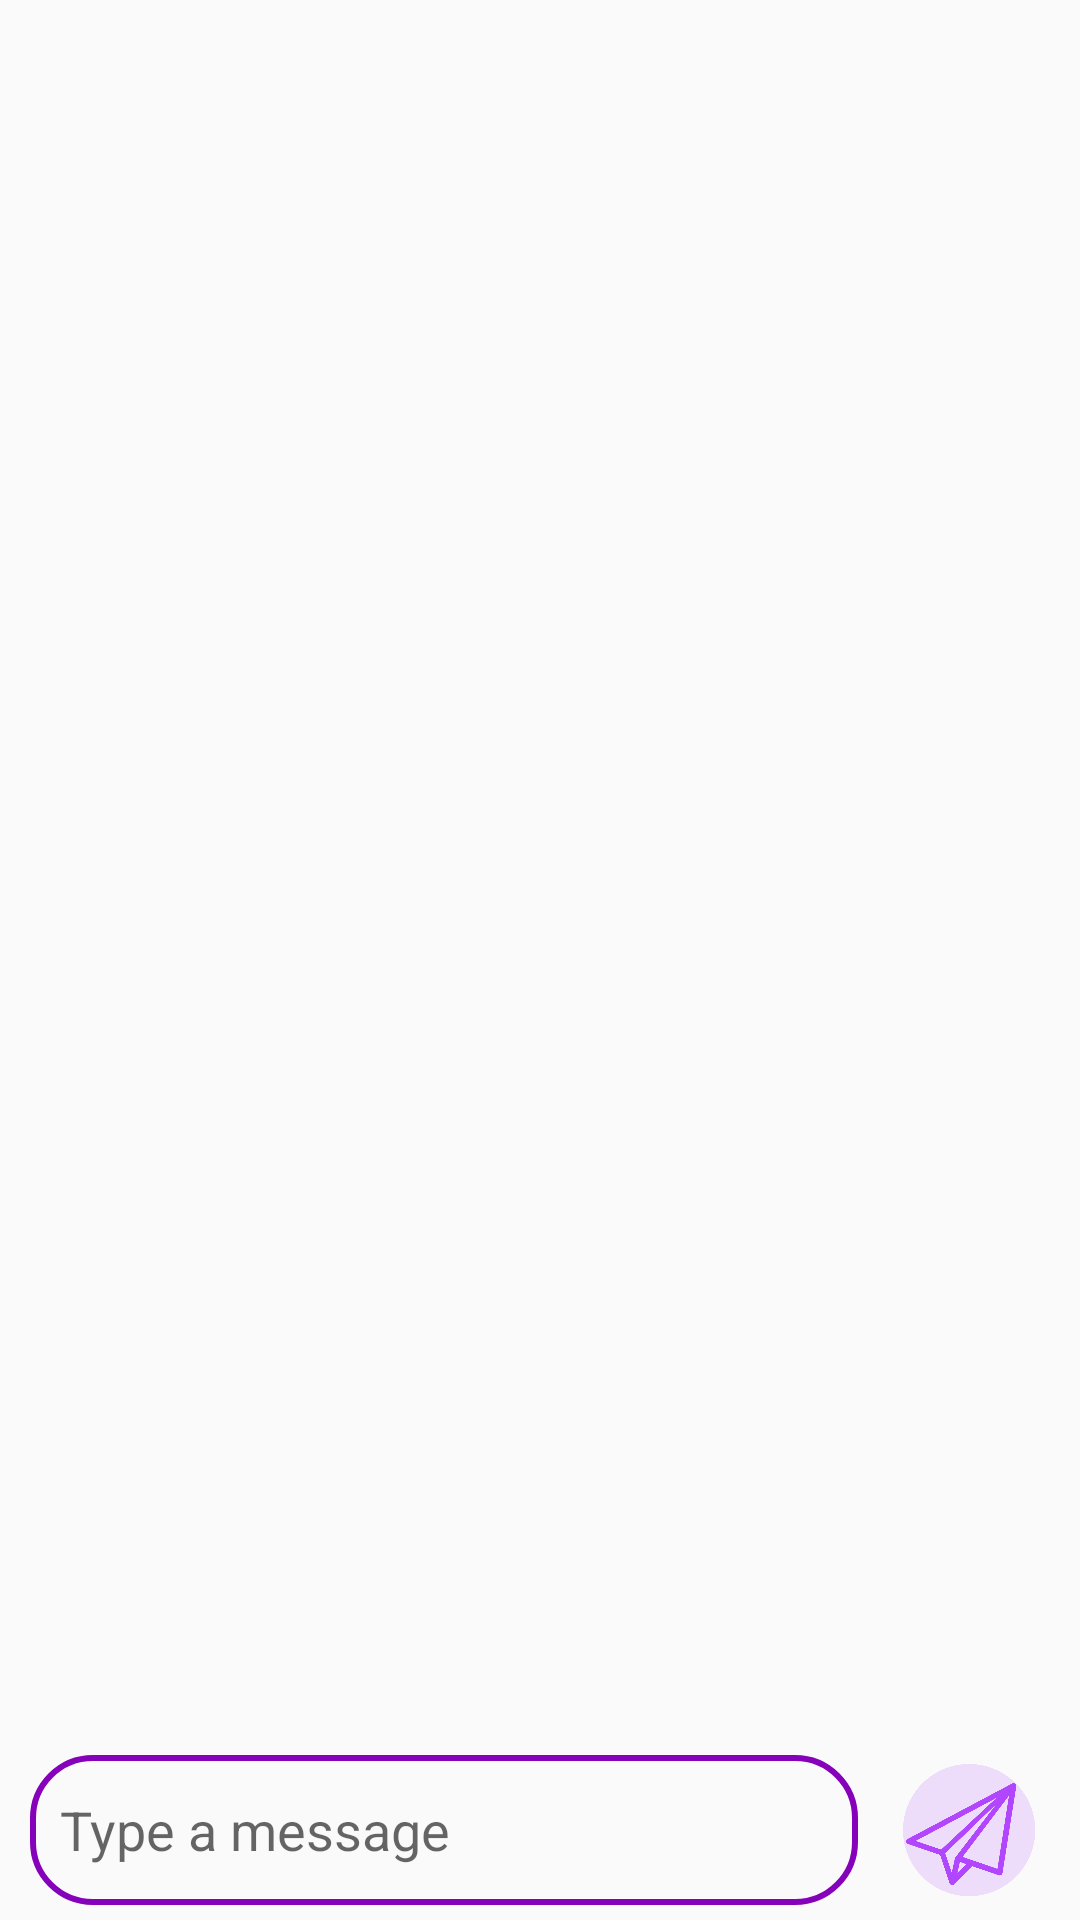

Icons on this 1080*1920 Android screen, each with its box as (x1, y1, x2, y2):
send: (903, 1764, 1035, 1896)
